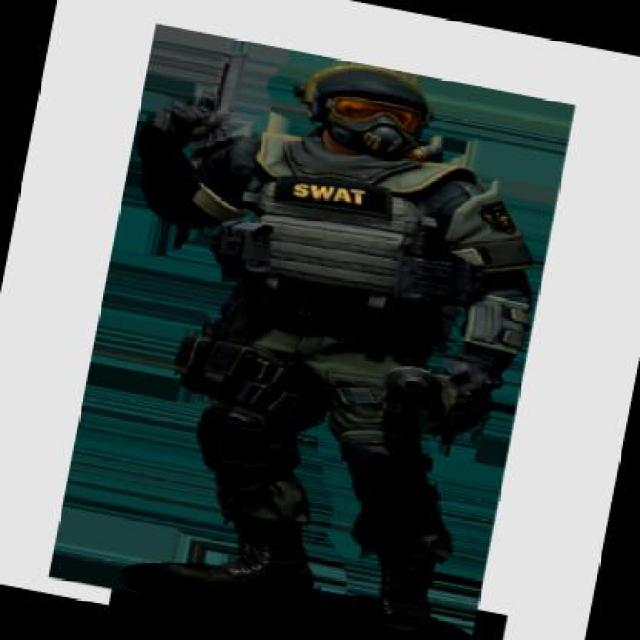MIL_Pax: (41, 19, 577, 638)
